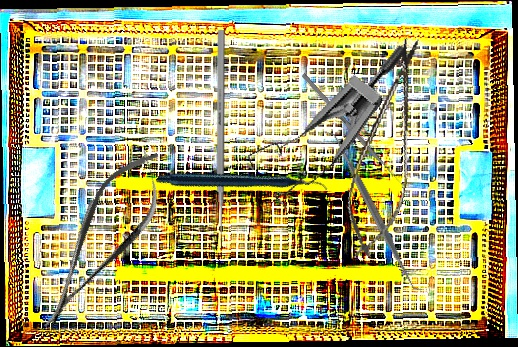Handpiece: (154, 101, 329, 268)
Micro Scissor: (18, 136, 184, 344), (336, 31, 437, 265)
Pusher: (300, 73, 406, 188), (217, 30, 225, 250)
Spatula Surgical: (321, 122, 425, 299)
Speculum: (234, 5, 410, 226)
